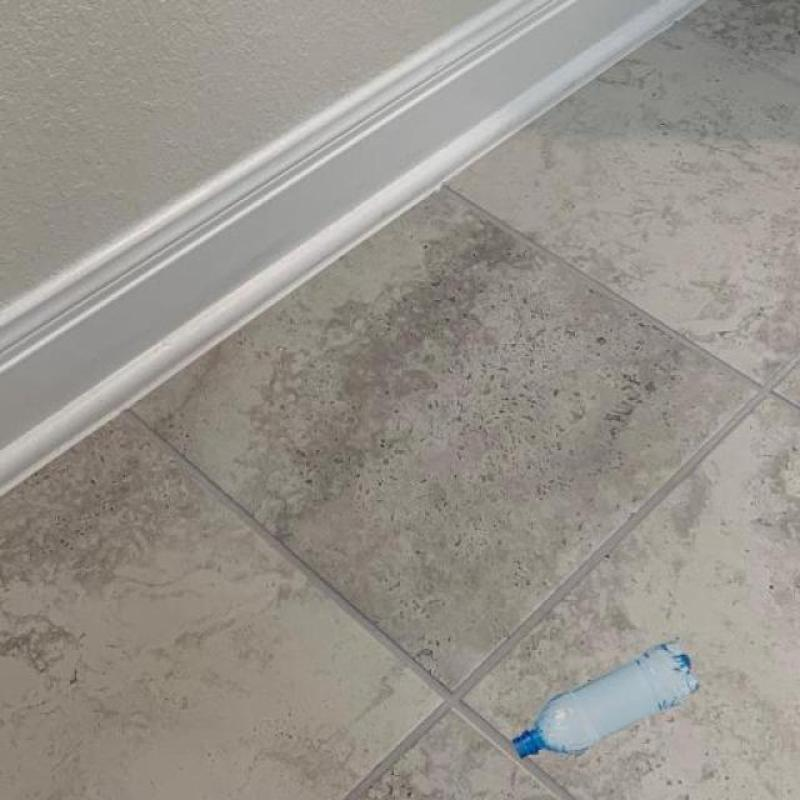botella: (511, 643, 697, 757)
